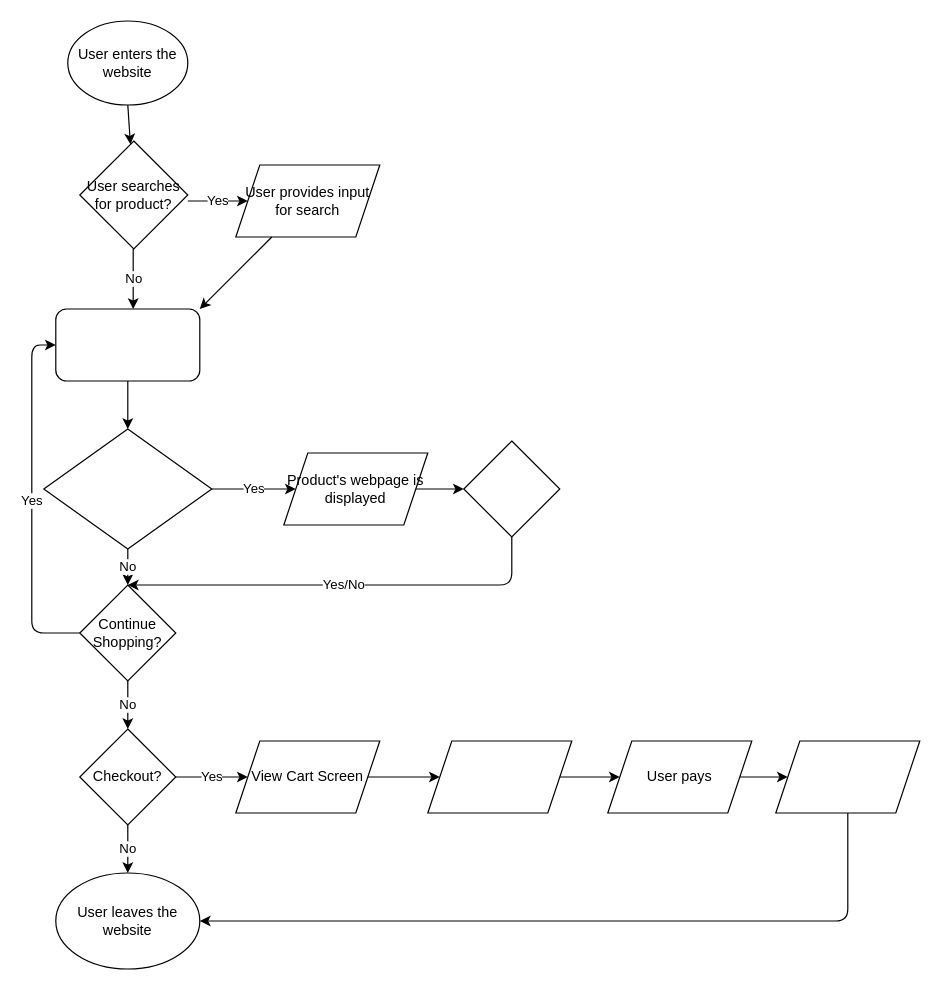
Image size: 941x990. Some labels were removed from this diagram. Each missing label, with the box of its shape:
Add item to cart: (463, 440, 560, 537)
Confirmation Screen: (775, 740, 920, 813)
User begins looking at products: (55, 308, 200, 381)
User wants to look at specific product?: (43, 428, 212, 549)
View payment screen: (427, 740, 572, 813)
